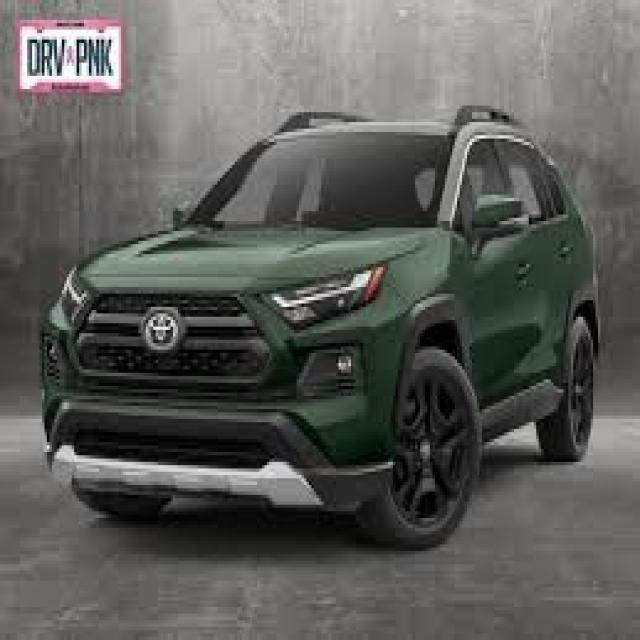light_vehicle: (38, 105, 602, 551)
